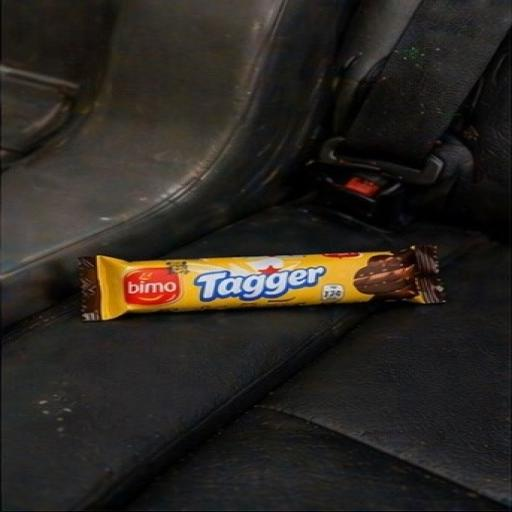tagger: (36, 176, 512, 356)
